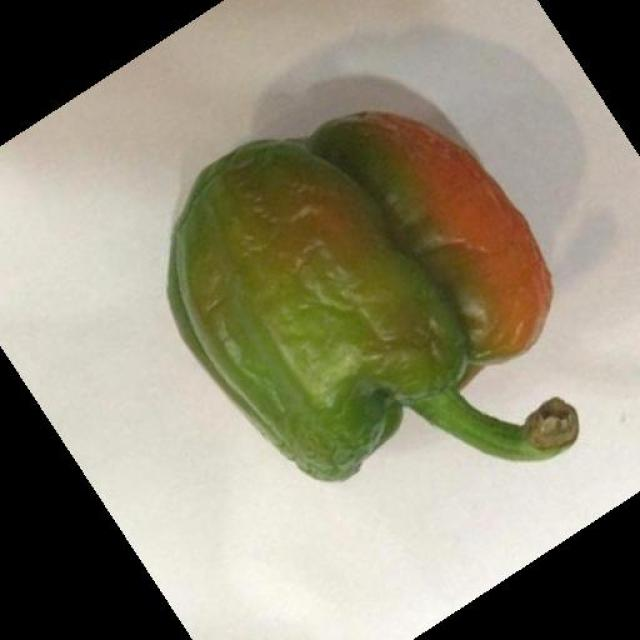Stale_Capsicum: (159, 85, 587, 498)
